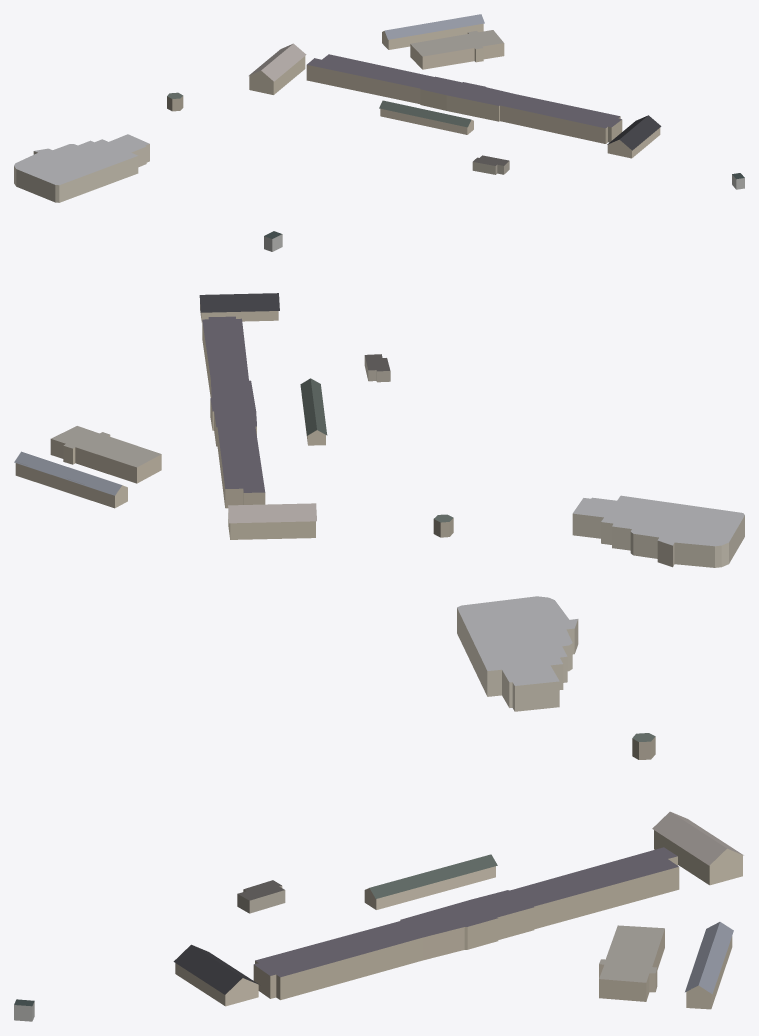
3 views of the same model, one above another, from view 1: azimuth 30°, elevation 25°; view 2: azimuth 150°, elevation 25°; view 3: azimuth 270°, elevation 25° (orthographic). The views are drawn at different scales.
Parts seen in each view (by area): view 1: tuile; view 2: tuile; view 3: tuile.
Boxes of the visible parts, <box> form: tuile: <box>14,14,744,202</box>; tuile: <box>14,231,744,567</box>; tuile: <box>14,596,743,1021</box>.
Bounding box in the file's own units: 238 × 11.92 × 187.
